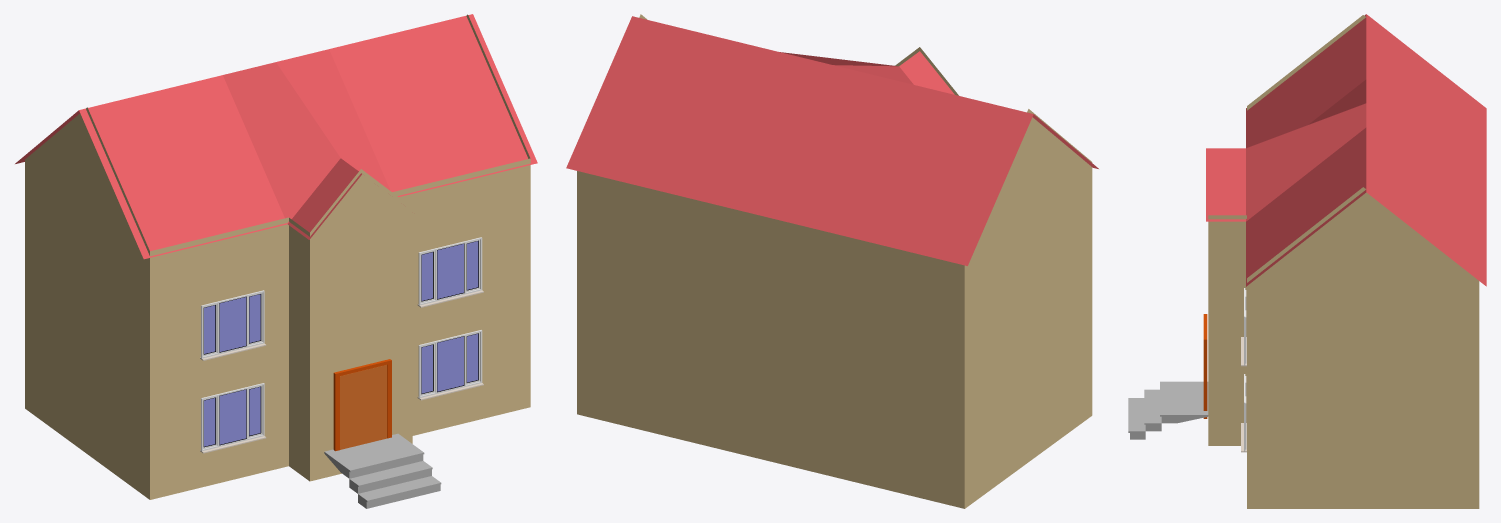
File: Mansion.fbx
3 views of the same model, side by side, from view 1: azimuth 30°, elevation 25°; view 2: azimuth 150°, elevation 25°; view 3: azimuth 270°, elevation 25° (orthographic). The views are drawn at different scales.
Parts seen in each view (by area): view 1: Cube, Cube.001, Stairs, Window.002, Window.003, Window, Window.001, Door, DoorFrame; view 2: Cube, Cube.001; view 3: Cube, Cube.001, Stairs, DoorFrame.
Part boxes in pixels (<box>): Cube: <box>25,14,530,499</box>; Cube.001: <box>15,14,537,259</box>; Stairs: <box>324,433,441,508</box>; Window.002: <box>417,330,483,400</box>; Window.003: <box>417,237,483,307</box>; Window: <box>200,383,266,453</box>; Window.001: <box>200,290,266,360</box>; Door: <box>340,365,386,449</box>; DoorFrame: <box>333,359,391,451</box>; Cube: <box>577,14,1092,508</box>; Cube.001: <box>566,16,1098,265</box>; Cube: <box>1208,15,1479,508</box>; Cube.001: <box>1206,14,1486,286</box>; Stairs: <box>1128,381,1208,439</box>; DoorFrame: <box>1203,314,1207,418</box>.
Size of the model in its own units: 207 by 174 by 176.
